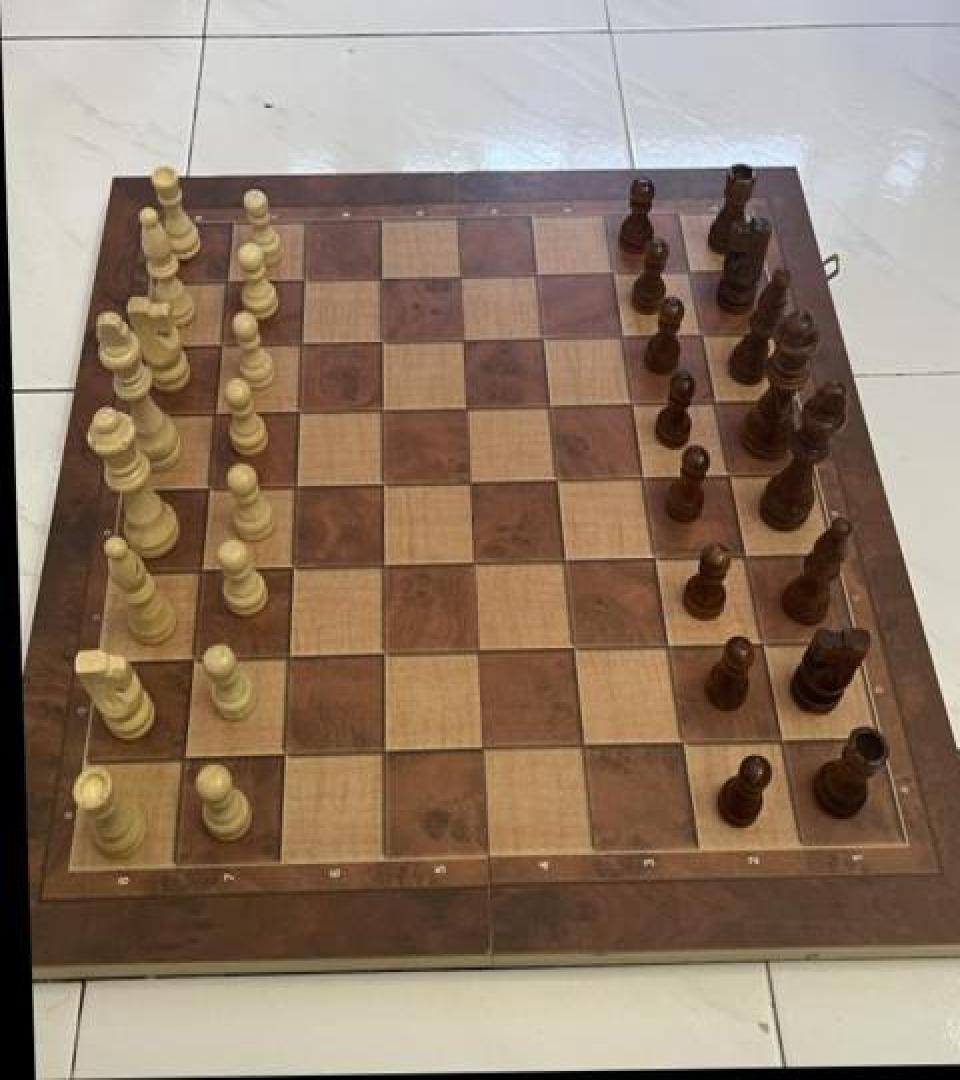xcorner: (675, 255, 709, 294), (687, 317, 721, 356), (544, 462, 578, 501), (600, 256, 634, 294), (524, 258, 558, 296), (447, 259, 481, 297), (370, 261, 404, 299), (293, 262, 327, 300), (215, 264, 249, 302), (609, 320, 643, 358), (530, 321, 564, 359), (450, 322, 484, 360), (371, 324, 405, 362), (290, 325, 324, 363), (209, 326, 243, 364), (701, 385, 735, 423), (619, 387, 653, 425), (537, 388, 571, 426), (454, 390, 488, 428), (371, 392, 405, 430), (287, 394, 321, 432), (203, 396, 237, 434), (715, 458, 749, 496), (630, 460, 664, 498), (458, 465, 492, 503), (371, 466, 405, 504), (284, 468, 318, 506), (196, 470, 230, 508), (731, 538, 765, 576), (642, 540, 676, 578), (552, 542, 586, 580), (462, 544, 496, 582), (371, 548, 405, 586), (280, 550, 314, 588), (188, 552, 222, 590), (748, 624, 782, 662), (655, 628, 689, 666), (561, 630, 595, 668), (467, 634, 501, 672), (372, 636, 406, 674), (276, 639, 310, 677), (180, 642, 214, 680), (767, 720, 801, 758), (669, 724, 703, 762), (571, 727, 605, 765), (472, 730, 506, 768), (372, 734, 406, 772), (272, 737, 306, 775), (171, 740, 205, 778)
